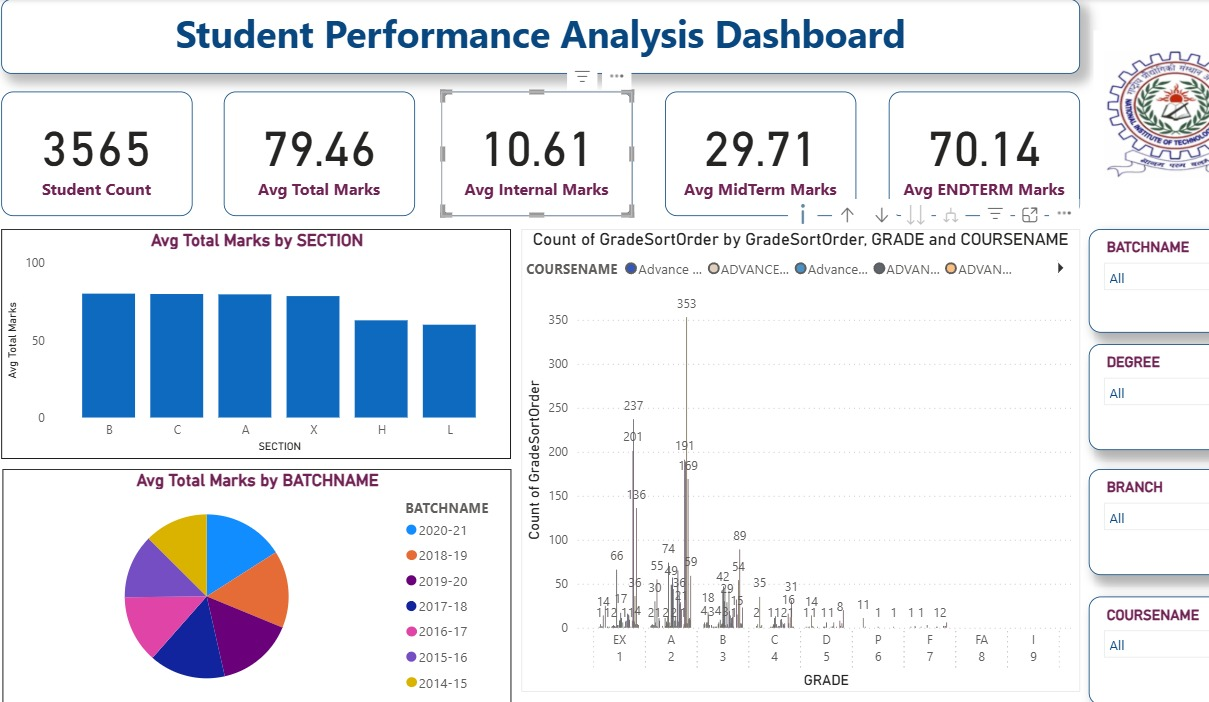

The dashboard page shown, as its layout file describes it:
{"tool":"powerbi","page":{"name":"Dashboard","canvas":[1280,720],"ordinal":0},"visuals":[{"type":"textbox","box":[11.2,0,1073.5,74.6],"z":0},{"type":"image","box":[1093.4,0,186.6,216.4],"z":1000},{"type":"card","fields":{"Values":["Count(Sheet1.STUDNAME)"]},"box":[11.2,92.1,190.3,124.4],"z":2000},{"type":"card","fields":{"Values":["Avg(Sheet1.TOT_MARK)"]},"box":[232.6,92.1,190.3,124.4],"z":3000},{"type":"card","fields":{"Values":["Avg(Sheet1.INTERNAL_MARK)"]},"box":[449.1,92.1,190.3,124.4],"z":4000},{"type":"card","fields":{"Values":["Avg(Sheet1.MIDTERM_MARK)"]},"box":[671.7,92.1,190.3,124.4],"z":5000},{"type":"card","fields":{"Values":["Avg(Sheet1.EXTERMARK)"]},"box":[894.4,92.1,190.3,124.4],"z":6000},{"type":"slicer","fields":{"Values":["Sheet1.BATCHNAME"]},"box":[1093.4,228.9,186.6,103.2],"z":7000},{"type":"columnChart","fields":{"Category":["Sheet1.CUR_SECTION"],"Y":["Avg(Sheet1.TOT_MARK)"]},"box":[11.2,228.9,507.5,228.9],"z":8000},{"type":"pieChart","title":"Avg Total Marks by BATCHNAME","fields":{"Category":["Sheet1.BATCHNAME"],"Y":["Avg(Sheet1.TOT_MARK)"]},"box":[12.4,467.7,506.3,235.1],"z":9000},{"type":"slicer","fields":{"Values":["Sheet1.COURSENAME"]},"box":[1093.4,594.6,186.6,108.2],"z":10000},{"type":"slicer","fields":{"Values":["Sheet1.BRANCH"]},"box":[1093.4,467.7,186.6,105.7],"z":11000},{"type":"slicer","fields":{"Values":["Sheet1.DEGREE"]},"box":[1093.4,343.3,186.6,105.7],"z":12000},{"type":"clusteredColumnChart","fields":{"Category":["Sheet1.GRADE"],"Y":["CountNonNull(Sheet1.GRADE)"],"Series":["Sheet1.COURSENAME"]},"box":[528.7,228.9,556,461.5],"z":13000}]}

Visuals, with their boxes on the page's 1280x720 design canvas (x1, y1, x2, y2). These are canvas units, not pixel positions in the 1209x702 screenshot, which may show the page scaled, cropped or inside an application window:
textbox: [x1=11, y1=0, x2=1085, y2=75]
image: [x1=1093, y1=0, x2=1280, y2=216]
card - Count(Sheet1.STUDNAME): [x1=11, y1=92, x2=202, y2=216]
card - Avg(Sheet1.TOT_MARK): [x1=233, y1=92, x2=423, y2=216]
card - Avg(Sheet1.INTERNAL_MARK): [x1=449, y1=92, x2=639, y2=216]
card - Avg(Sheet1.MIDTERM_MARK): [x1=672, y1=92, x2=862, y2=216]
card - Avg(Sheet1.EXTERMARK): [x1=894, y1=92, x2=1085, y2=216]
slicer - Sheet1.BATCHNAME: [x1=1093, y1=229, x2=1280, y2=332]
columnChart - Sheet1.CUR_SECTION x Avg(Sheet1.TOT_MARK): [x1=11, y1=229, x2=519, y2=458]
"Avg Total Marks by BATCHNAME" pieChart: [x1=12, y1=468, x2=519, y2=703]
slicer - Sheet1.COURSENAME: [x1=1093, y1=595, x2=1280, y2=703]
slicer - Sheet1.BRANCH: [x1=1093, y1=468, x2=1280, y2=573]
slicer - Sheet1.DEGREE: [x1=1093, y1=343, x2=1280, y2=449]
clusteredColumnChart - Sheet1.GRADE x CountNonNull(Sheet1.GRADE): [x1=529, y1=229, x2=1085, y2=690]
